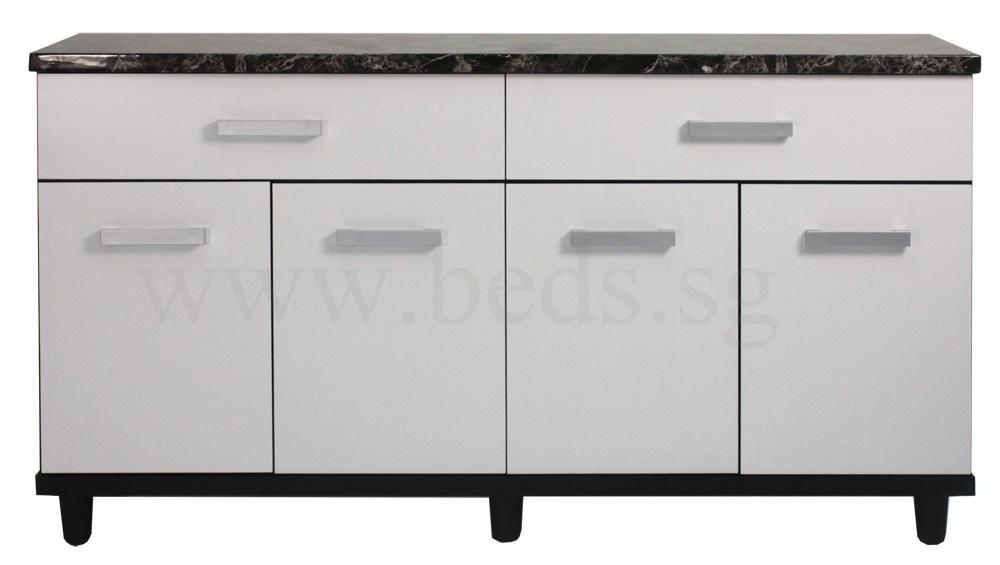cabinet_door: (45, 183, 278, 470), (281, 189, 511, 477), (746, 192, 977, 478), (513, 190, 742, 477), (502, 85, 966, 182), (40, 84, 502, 181)
handle: (674, 114, 804, 149), (559, 225, 683, 260), (324, 225, 450, 259), (795, 228, 918, 259), (209, 114, 333, 142), (89, 226, 214, 249)
